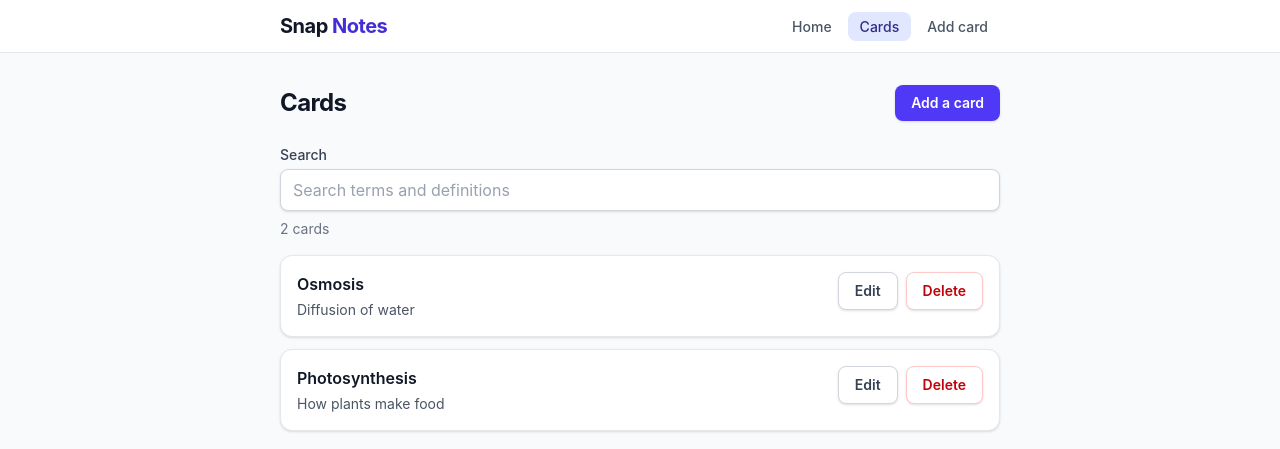
Test: ListPage › filters cards by term or definition, ignoring case
Type "WATER" into the search field labelled "Search" at coordinates (640, 190), box [280, 169, 1000, 211]
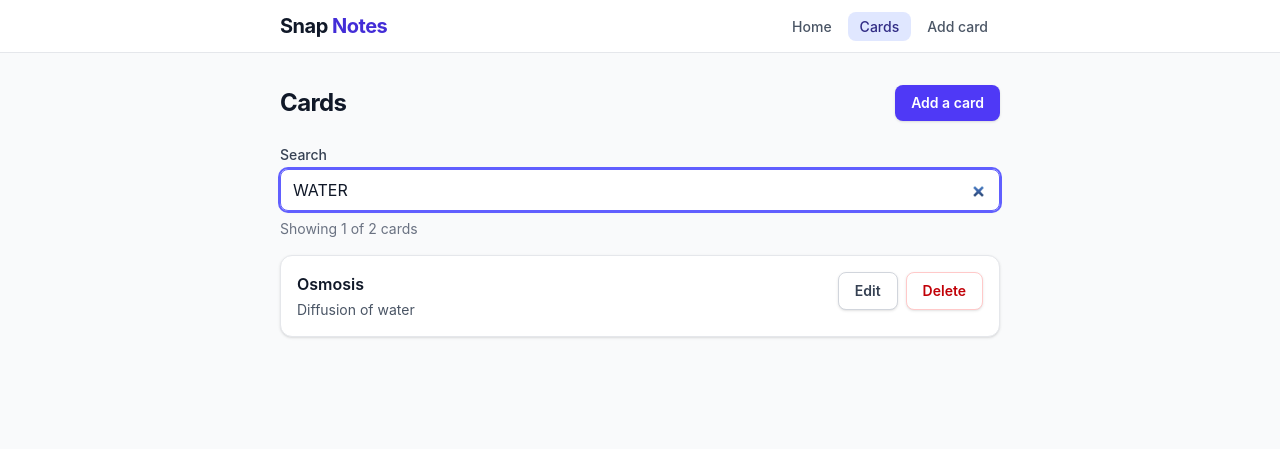
Expected: the heading "Osmosis" is shown, [297, 274, 364, 294]
Expected: the heading "Photosynthesis" is gone
Expected: the message reads "Showing 1 of 2 cards", [280, 220, 418, 237]
